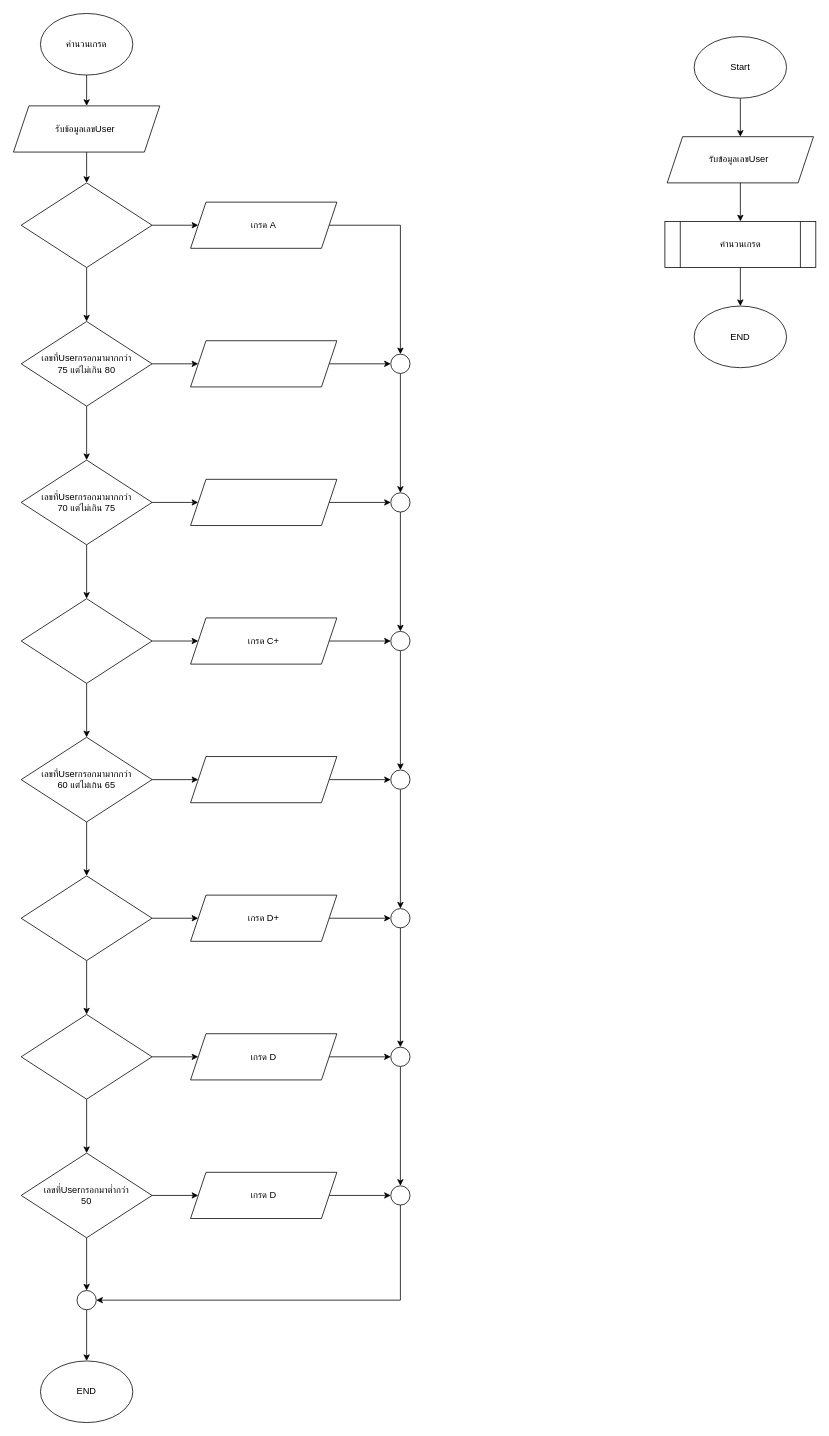
Image size: 829x1436. Some labels were removed from this diagram. The box of each missing label's shape, as (x1, y1, x2, y2) in pixels:
เกรด B: (190, 479, 337, 526)
เกรด B+: (190, 340, 337, 387)
เกรด C: (190, 756, 337, 803)
เลขที่Userกรอกมามากกว่า 50 แต่ ไม่ เกิน 55: (20, 1014, 152, 1099)
เลขที่Userกรอกมามากกว่า 55 แต่ ไม่ เกิน 60: (20, 875, 152, 961)
เลขที่Userกรอกมามากกว่า 65 แต่ ไม่ เกิน 70: (20, 598, 152, 683)
เลขที่Userกรอกมามากกว่า 80 ไหม: (20, 182, 152, 268)
